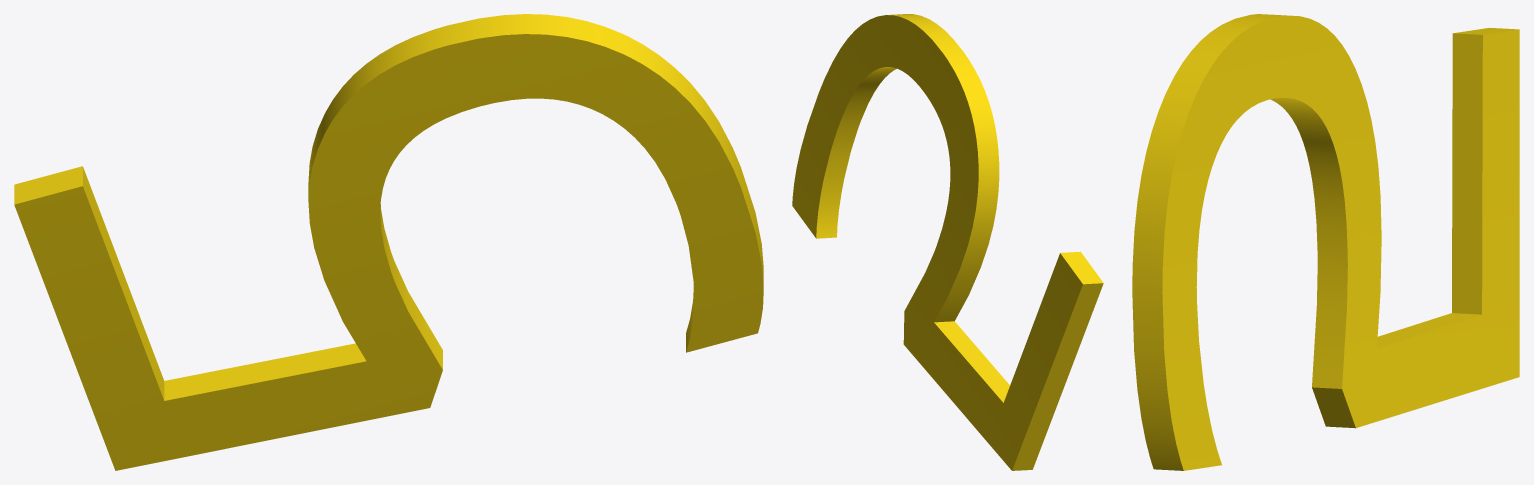
Rendered from Number_5.gltf.
3 views of the same model, side by side, from view 1: azimuth 30°, elevation 25°; view 2: azimuth 150°, elevation 25°; view 3: azimuth 270°, elevation 25° (orthographic). The views are drawn at different scales.
Parts seen in each view (by area): view 1: Sub_2_Cell_1_3_Number_5; view 2: Sub_2_Cell_1_3_Number_5; view 3: Sub_2_Cell_1_3_Number_5.
Boxes of the visible parts, x1,y1,x2,y2 form: Sub_2_Cell_1_3_Number_5: (14,14,763,470); Sub_2_Cell_1_3_Number_5: (792,14,1103,470); Sub_2_Cell_1_3_Number_5: (1132,14,1519,470).
Size of the model in its own units: 0.0252 by 0.0192 by 0.0139.
